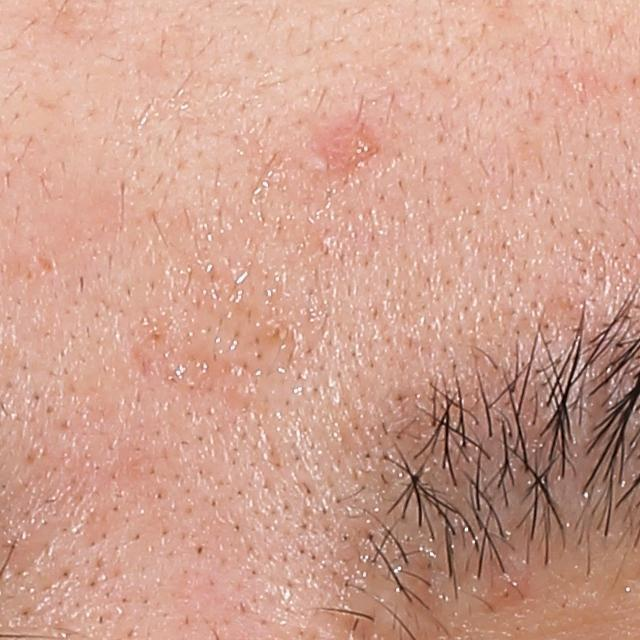atrophic_scar: (37, 245, 56, 276)
papule: (319, 121, 375, 167), (488, 565, 531, 601)
